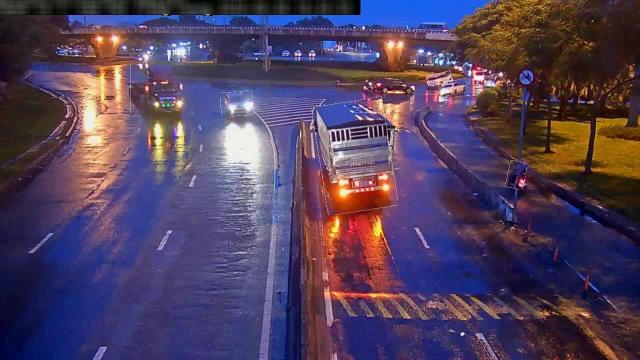Bike: (506, 161, 526, 189)
Car: (220, 92, 253, 116), (438, 80, 468, 96), (426, 72, 452, 86)
Truck: (316, 99, 394, 213), (130, 62, 184, 114)
